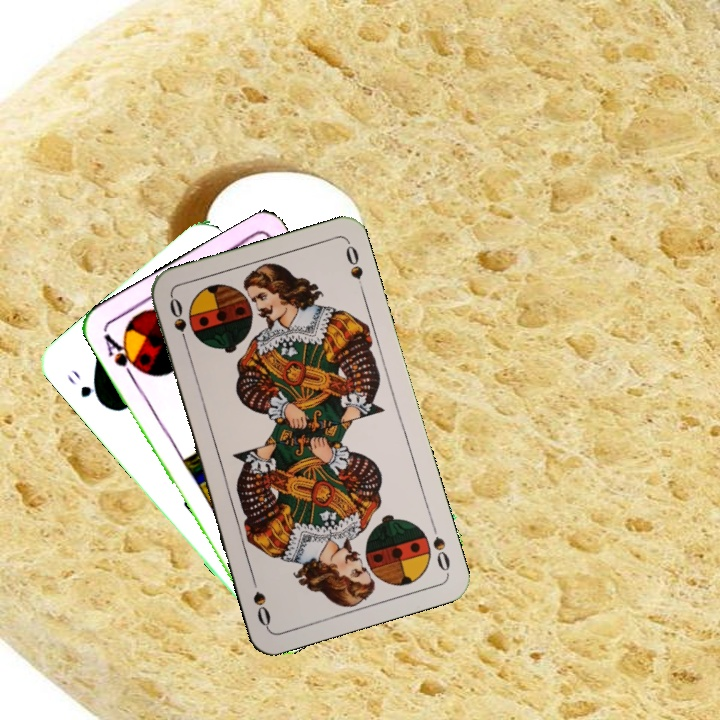GO: (63, 365, 107, 409)
SA: (99, 329, 144, 381)
SO: (165, 293, 192, 351), (428, 532, 453, 575)
